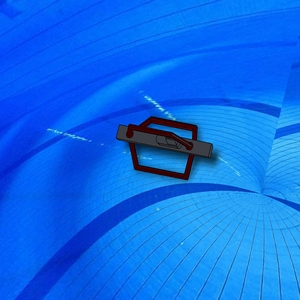submarine: (103, 100, 229, 199)
